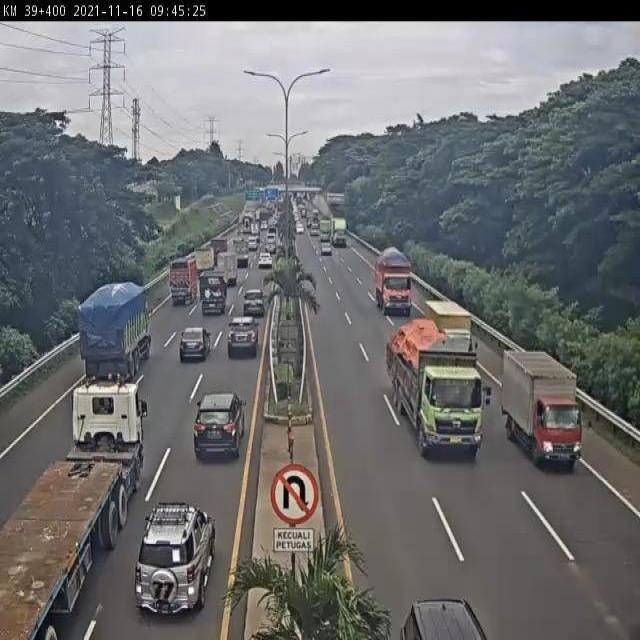car: (135, 500, 222, 619), (196, 391, 247, 455), (229, 313, 258, 355), (178, 327, 212, 361), (242, 289, 266, 316)
truck: (6, 385, 149, 640), (383, 315, 494, 468), (501, 351, 583, 468), (77, 282, 151, 382), (375, 251, 414, 316), (169, 256, 197, 305), (199, 271, 227, 313)
